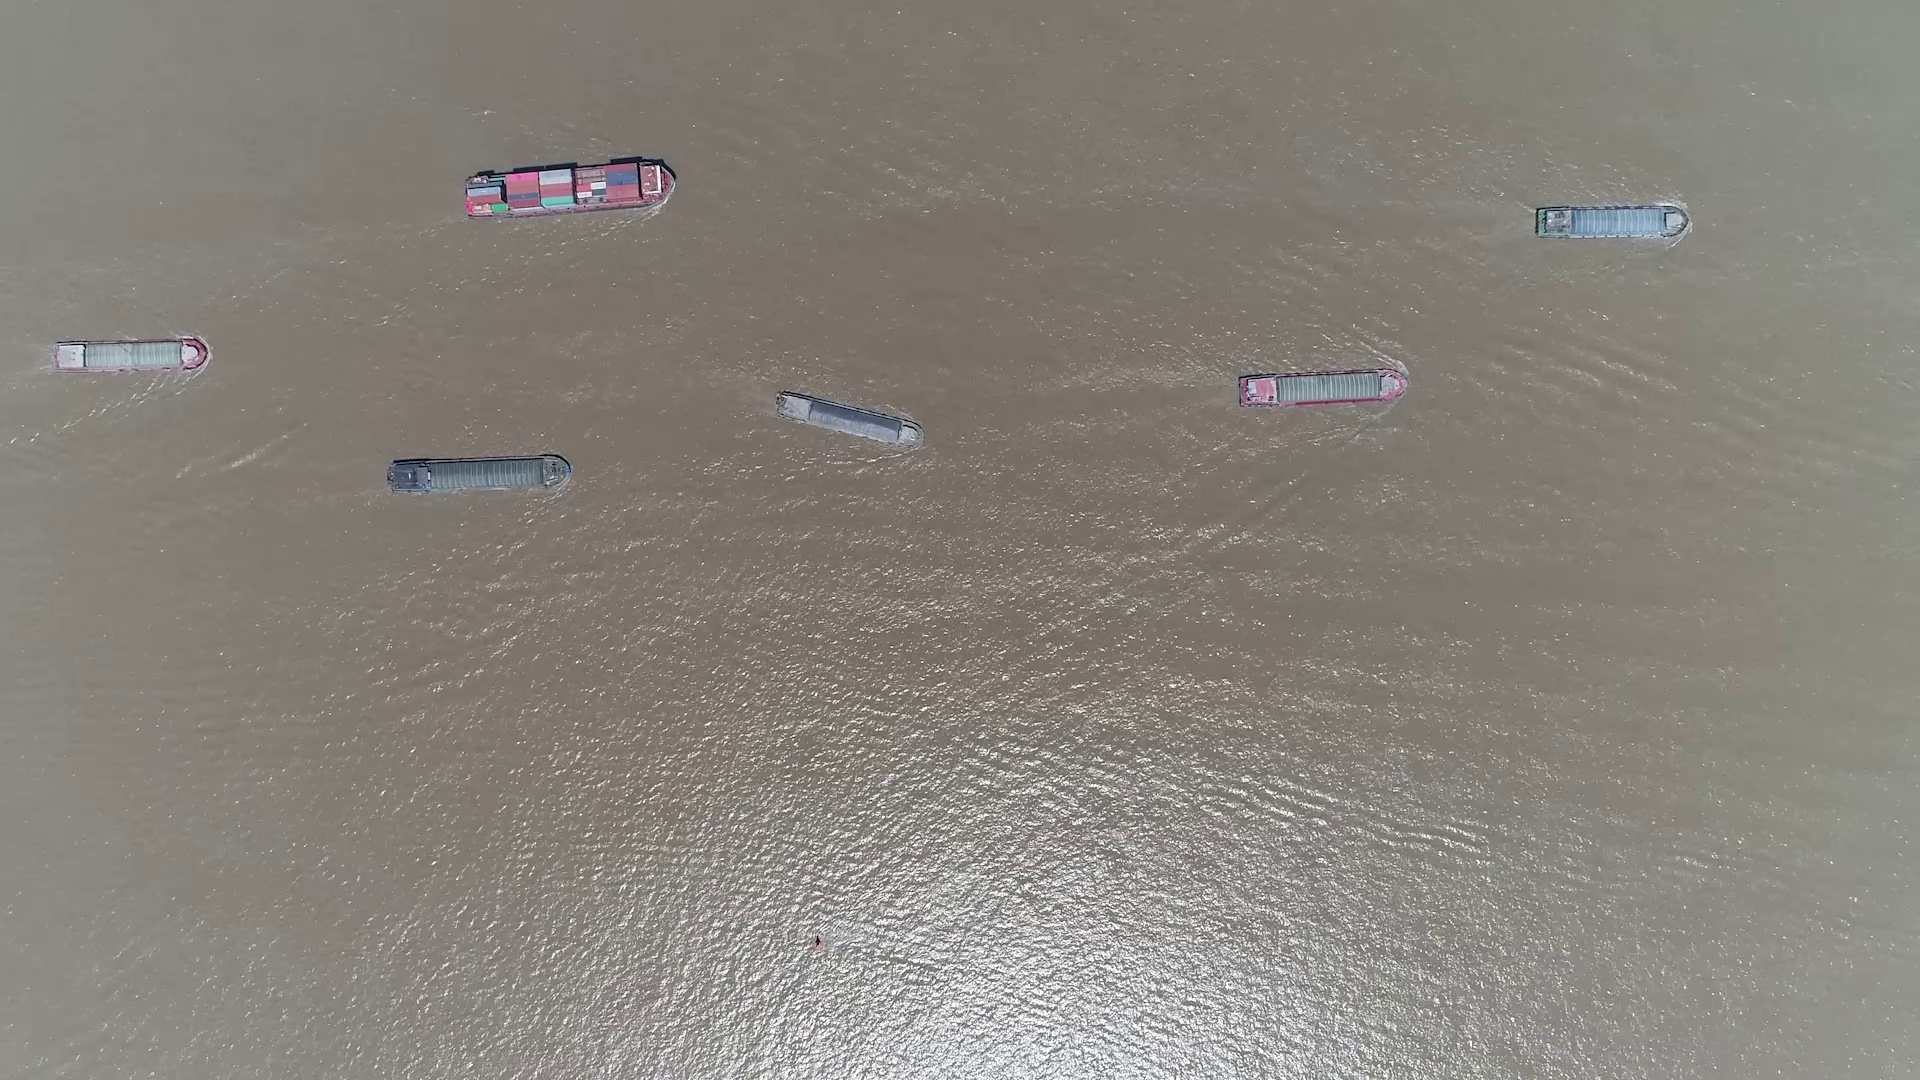ship: (462, 161, 675, 218), (774, 392, 922, 447), (386, 455, 572, 495), (1238, 369, 1406, 407), (51, 339, 207, 372), (1534, 207, 1685, 239)
